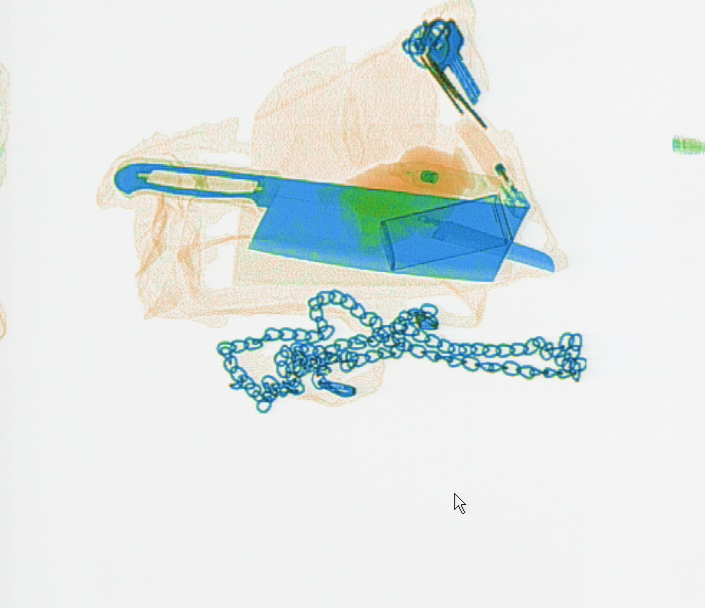knife: (113, 161, 532, 284), (339, 191, 558, 272)
lighter: (454, 114, 529, 217)
